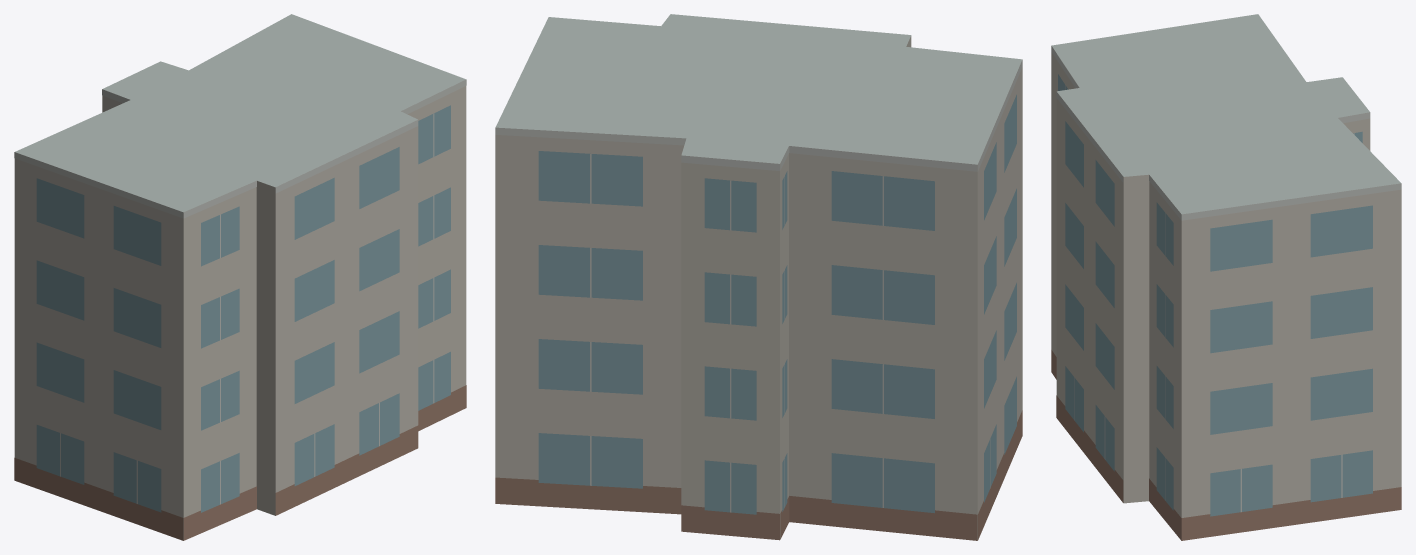
The model's file is survey-upis-32613903.glb.
3 renders of one model, left to right at view 1: azimuth 30°, elevation 25°; view 2: azimuth 150°, elevation 25°; view 3: azimuth 270°, elevation 25°, orthographic. The views are drawn at different scales.
Visible parts, largest first — view 1: survey-upis-32613903.tmp; view 2: survey-upis-32613903.tmp; view 3: survey-upis-32613903.tmp.
Boxes of the visible parts, x1=… form: survey-upis-32613903.tmp: x1=14, y1=14, x2=466, y2=540; survey-upis-32613903.tmp: x1=495, y1=14, x2=1022, y2=540; survey-upis-32613903.tmp: x1=1051, y1=14, x2=1401, y2=540.
Bounding box in the file's own units: 16.73 × 12.7 × 12.36.
